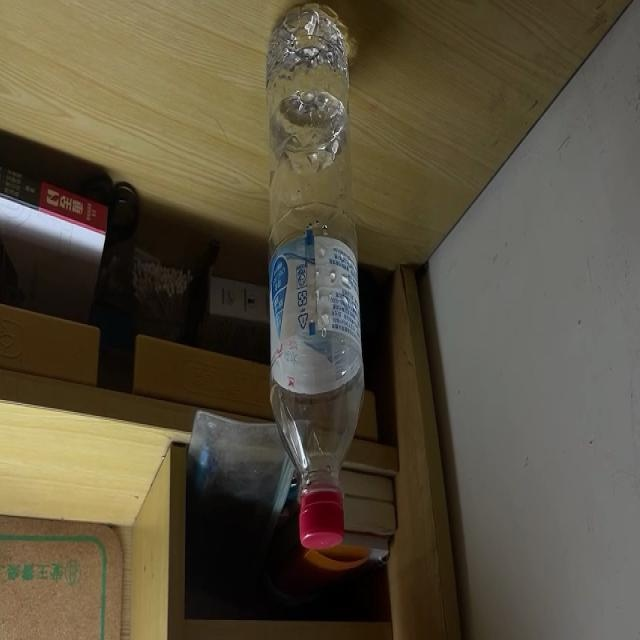Water: (266, 0, 360, 552)
